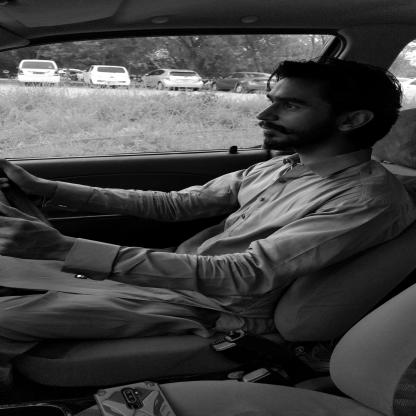no-seatbelt: (233, 57, 382, 266)
